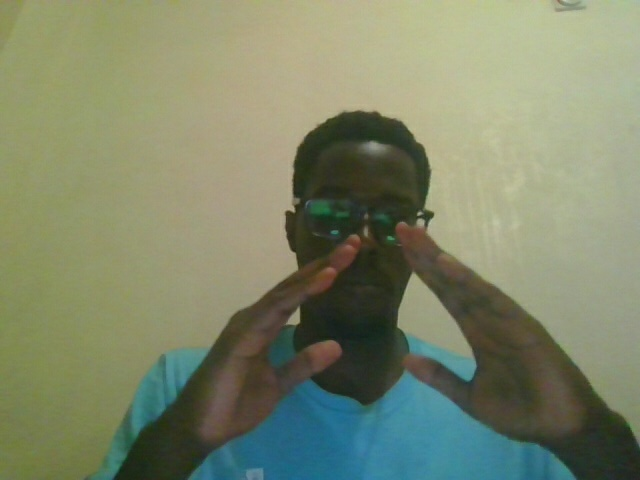Thanks: (190, 217, 625, 474)
